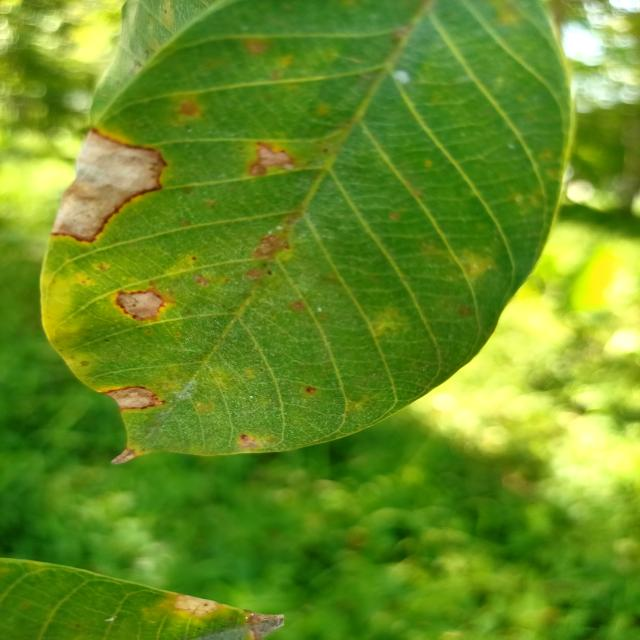Leaf-Blight: (50, 127, 164, 242), (118, 292, 162, 320), (107, 386, 155, 410), (174, 594, 216, 614), (259, 146, 291, 170), (110, 447, 136, 465)
